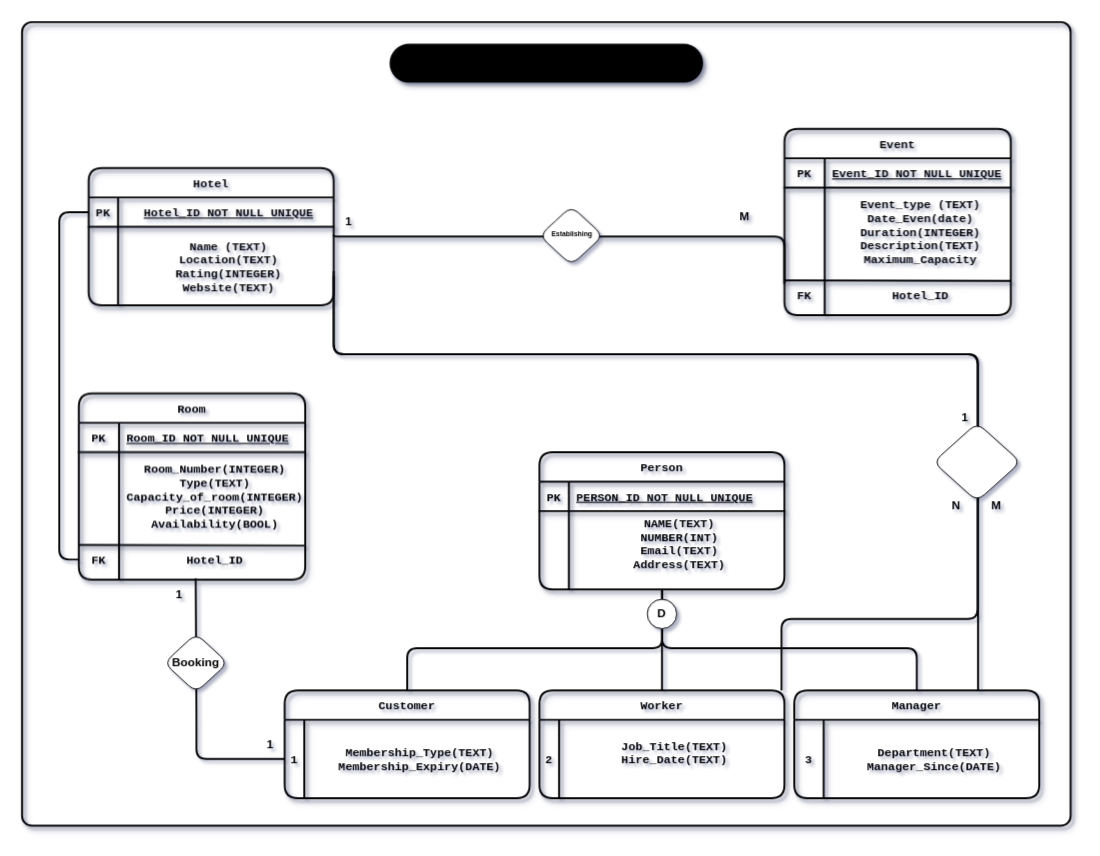
This 1100x856 diagram has some shape labels left out. The centre of each missing label's shape, as x and y in pixels:
Hotel Management System: (547,64)
Working AT: (976,461)
